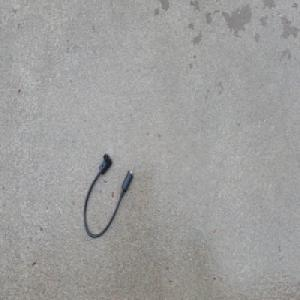Wire: (83, 150, 134, 238)
